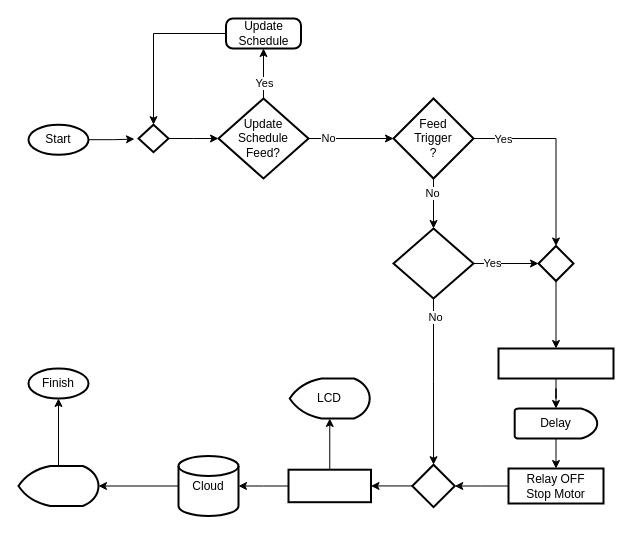
The diagram is 631 pixels wide and 534 high, and some of its shapes have lost their labels. Here are the shapes that lost their labels. From the top down, the box of each, then its label:
(392, 227, 474, 299): Timer Schedule?
(497, 347, 614, 379): Relay ON Start Motor
(17, 464, 99, 506): Web Client
(287, 468, 372, 503): Read Sensor
